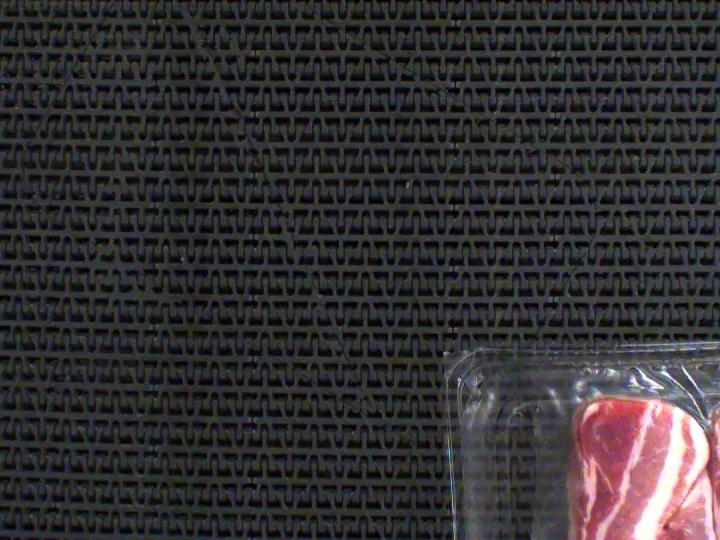unsealed: (443, 333, 720, 540)
